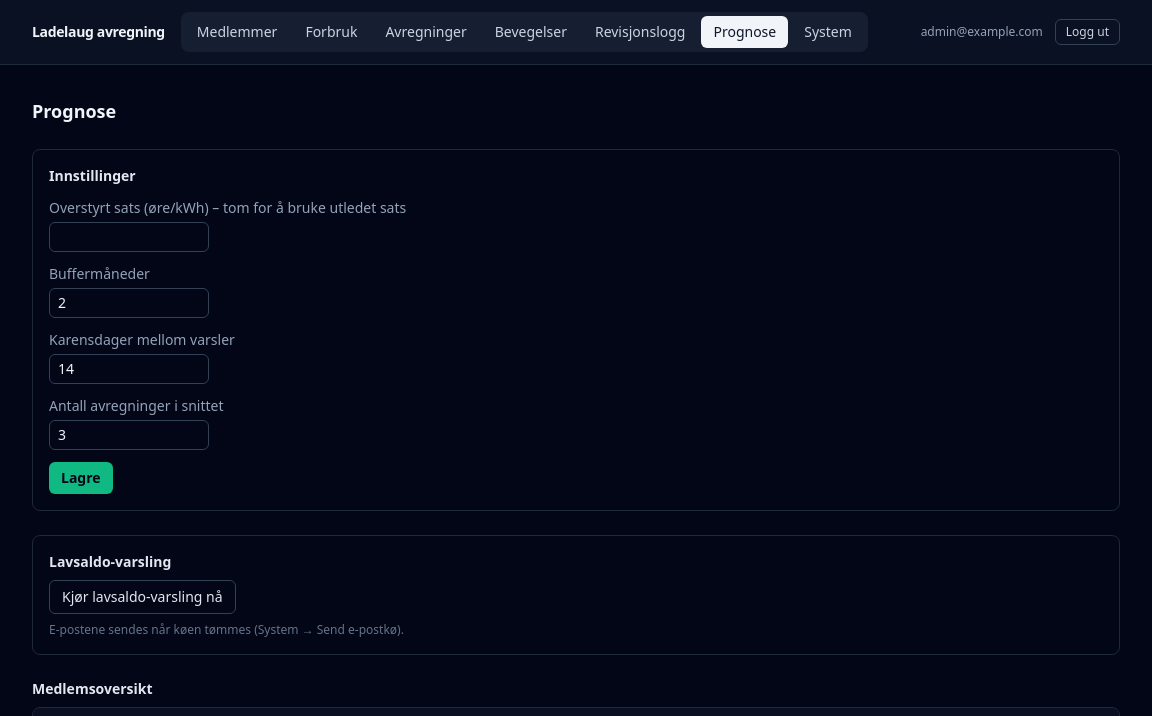
Test: ForecastSettings (admin) › saves the changed settings via PUT /api/forecast/settings
This screenshot has width=1152, height=716.
Replace the text in the field labelled "Buffermåneder" with "3" at (129, 303), box [49, 288, 209, 318]
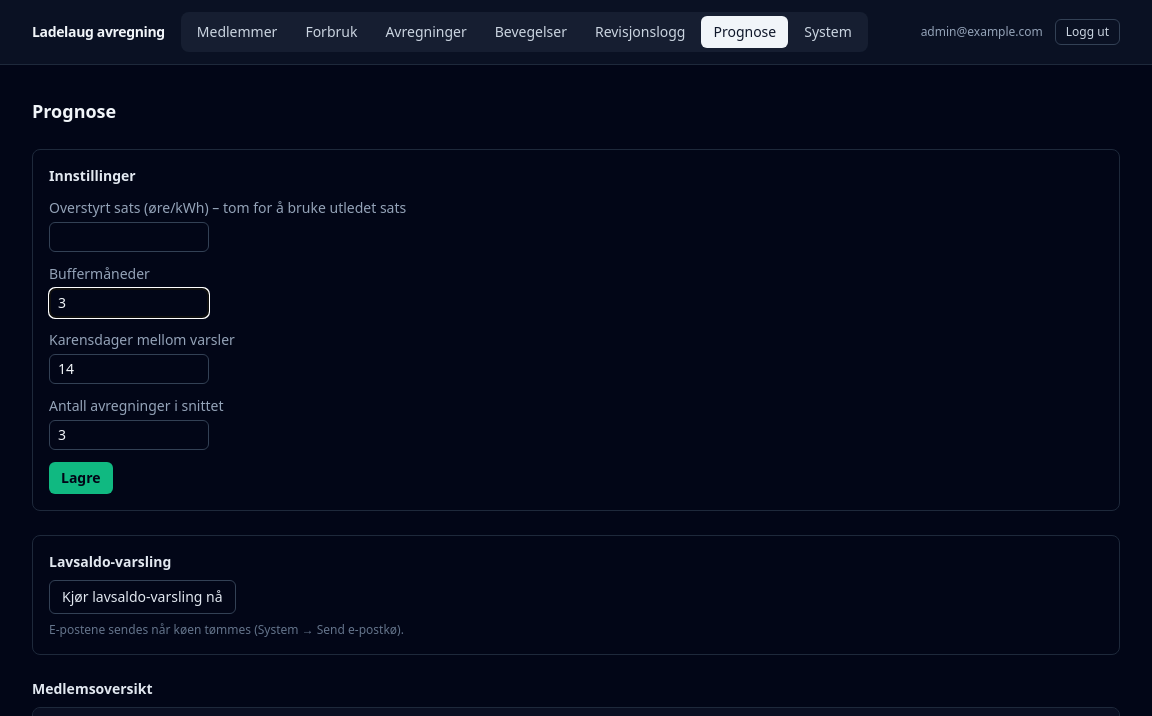
Type "210" into the field labelled "Overstyrt sats (øre/kWh) – tom for å bruke utledet sats" at (129, 237), box [49, 222, 209, 252]
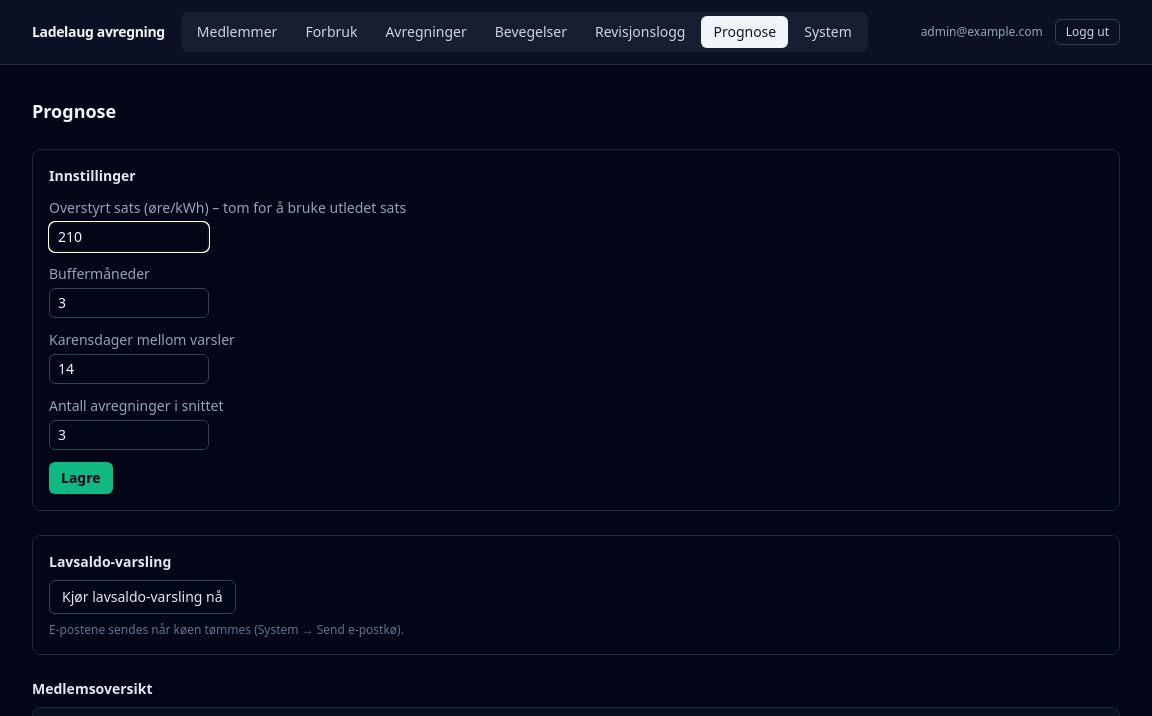
Click the button "Lagre" at (81, 478), box [49, 462, 113, 494]
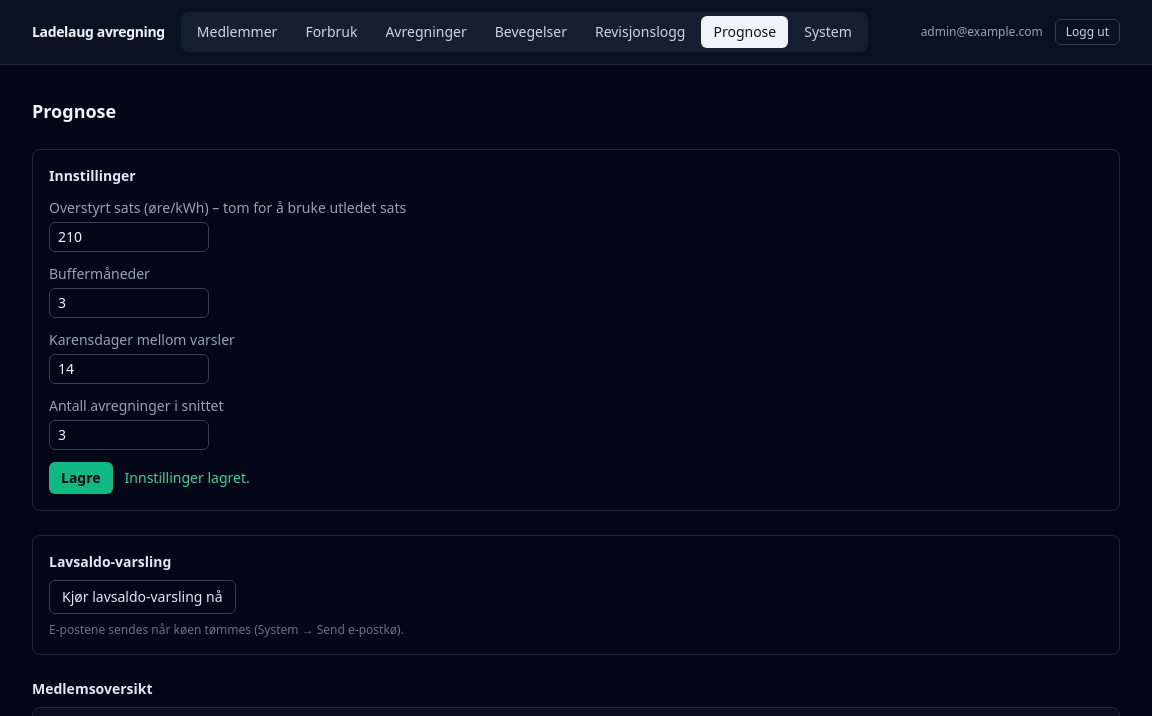
Result: the text "Innstillinger lagret." is shown at [125, 468, 250, 488]
